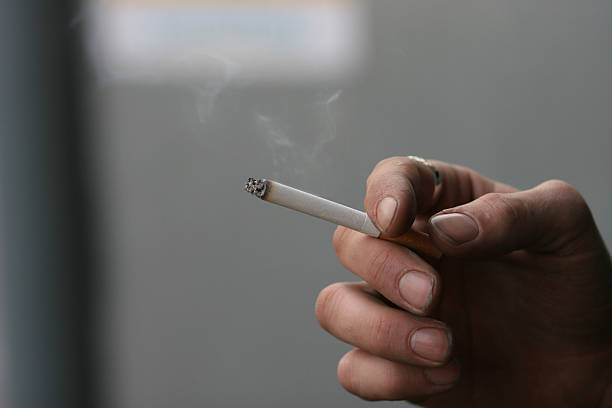cigarette: (242, 175, 444, 262)
